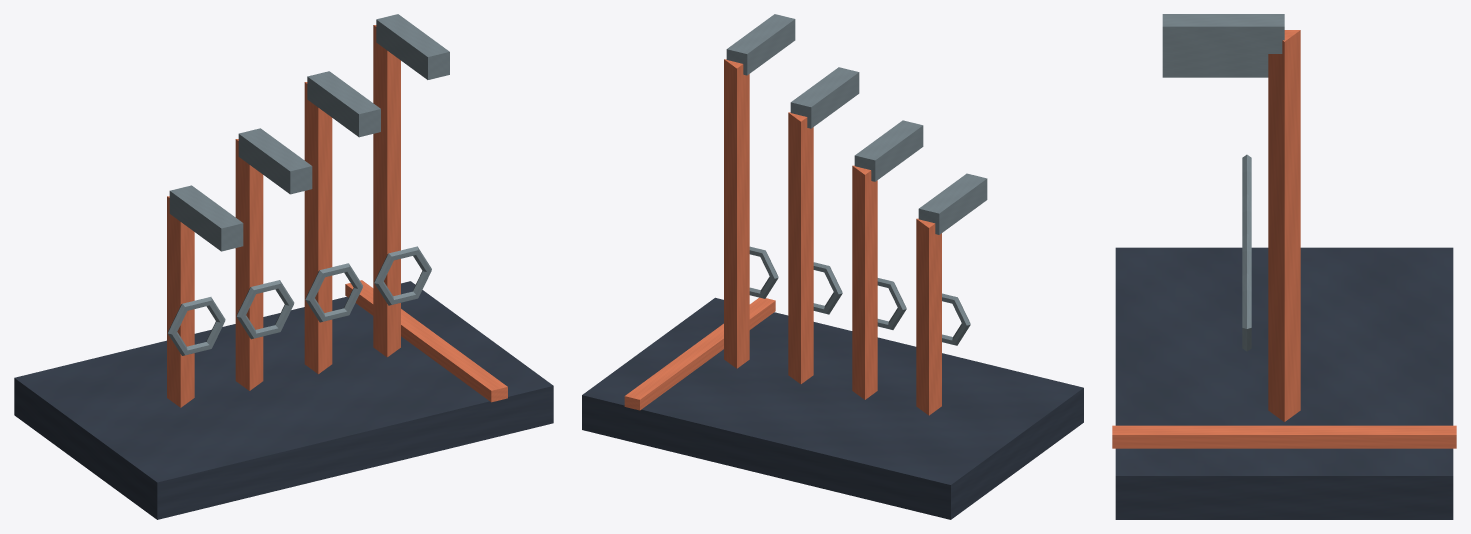
Rendered from atlas100-s030-a03.lod2.glb.
3 views of the same model, side by side, from view 1: azimuth 30°, elevation 25°; view 2: azimuth 150°, elevation 25°; view 3: azimuth 270°, elevation 25° (orthographic). The views are drawn at different scales.
Parts seen in each view (by area): view 1: atlas100-s030-a03:part-000, atlas100-s030-a03:part-012, atlas100-s030-a03:part-009, atlas100-s030-a03:part-006, atlas100-s030-a03:part-003, atlas100-s030-a03:part-002, atlas100-s030-a03:part-008, atlas100-s030-a03:part-005, atlas100-s030-a03:part-011, atlas100-s030-a03:part-014, atlas100-s030-a03:part-013, atlas100-s030-a03:part-004 (+2 smaller); view 2: atlas100-s030-a03:part-000, atlas100-s030-a03:part-012, atlas100-s030-a03:part-009, atlas100-s030-a03:part-006, atlas100-s030-a03:part-003, atlas100-s030-a03:part-002, atlas100-s030-a03:part-011, atlas100-s030-a03:part-005, atlas100-s030-a03:part-014, atlas100-s030-a03:part-008, atlas100-s030-a03:part-010, atlas100-s030-a03:part-007 (+2 smaller); view 3: atlas100-s030-a03:part-000, atlas100-s030-a03:part-012, atlas100-s030-a03:part-002, atlas100-s030-a03:part-014, atlas100-s030-a03:part-005, atlas100-s030-a03:part-008, atlas100-s030-a03:part-011, atlas100-s030-a03:part-013, atlas100-s030-a03:part-004, atlas100-s030-a03:part-007, atlas100-s030-a03:part-010.
Boxes of the visible parts, box(x1,y1,x2,y2) form: atlas100-s030-a03:part-000: box(14, 281, 553, 519); atlas100-s030-a03:part-012: box(373, 25, 400, 357); atlas100-s030-a03:part-009: box(304, 82, 332, 374); atlas100-s030-a03:part-006: box(235, 139, 263, 390); atlas100-s030-a03:part-003: box(167, 196, 194, 407); atlas100-s030-a03:part-002: box(345, 280, 507, 402); atlas100-s030-a03:part-008: box(238, 128, 312, 194); atlas100-s030-a03:part-005: box(169, 185, 243, 251); atlas100-s030-a03:part-011: box(307, 71, 380, 137); atlas100-s030-a03:part-014: box(376, 14, 449, 79); atlas100-s030-a03:part-013: box(374, 246, 431, 305); atlas100-s030-a03:part-004: box(167, 297, 225, 355); atlas100-s030-a03:part-000: box(582, 297, 1083, 519); atlas100-s030-a03:part-012: box(724, 59, 749, 368); atlas100-s030-a03:part-009: box(788, 112, 813, 383); atlas100-s030-a03:part-006: box(852, 165, 877, 399); atlas100-s030-a03:part-003: box(916, 218, 941, 415); atlas100-s030-a03:part-002: box(624, 297, 775, 410); atlas100-s030-a03:part-011: box(790, 67, 859, 128); atlas100-s030-a03:part-005: box(918, 173, 987, 234); atlas100-s030-a03:part-014: box(726, 14, 795, 75); atlas100-s030-a03:part-008: box(854, 120, 923, 181); atlas100-s030-a03:part-010: box(813, 262, 842, 314); atlas100-s030-a03:part-007: box(877, 278, 906, 329); atlas100-s030-a03:part-000: box(1115, 247, 1453, 519); atlas100-s030-a03:part-012: box(1268, 30, 1300, 421); atlas100-s030-a03:part-002: box(1112, 425, 1456, 448); atlas100-s030-a03:part-014: box(1162, 14, 1284, 53); atlas100-s030-a03:part-005: box(1162, 69, 1268, 77); atlas100-s030-a03:part-008: box(1162, 61, 1268, 69); atlas100-s030-a03:part-011: box(1162, 54, 1268, 61); atlas100-s030-a03:part-013: box(1242, 273, 1251, 351); atlas100-s030-a03:part-004: box(1242, 154, 1251, 196); atlas100-s030-a03:part-007: box(1242, 194, 1251, 236); atlas100-s030-a03:part-010: box(1242, 234, 1251, 275).
Bounding box in the file's own units: 2.88 × 2.62 × 1.84.
3 materials, 3 textured.
